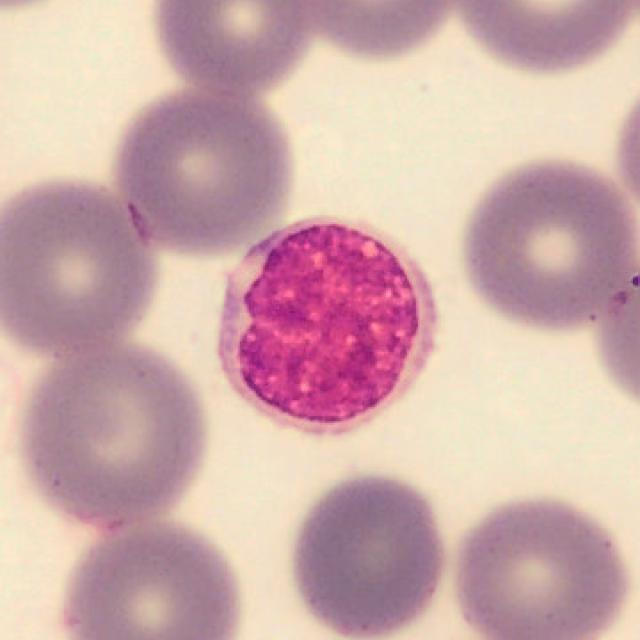Linfocito: (217, 217, 439, 436)
